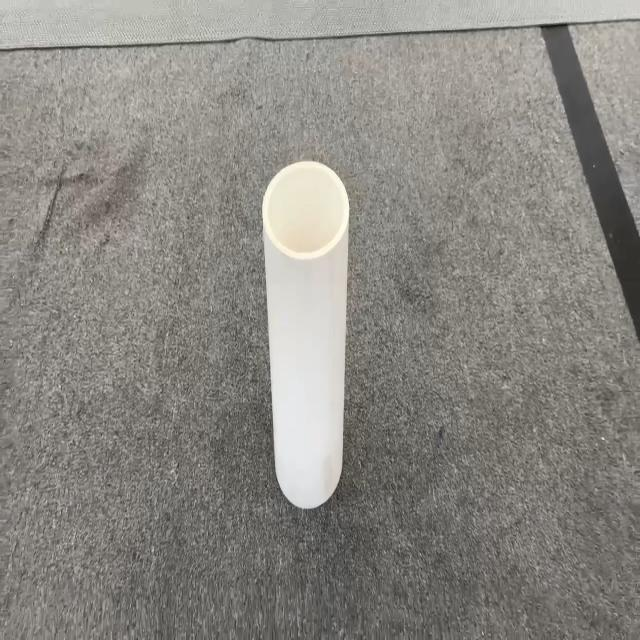coral: (261, 158, 350, 510)
